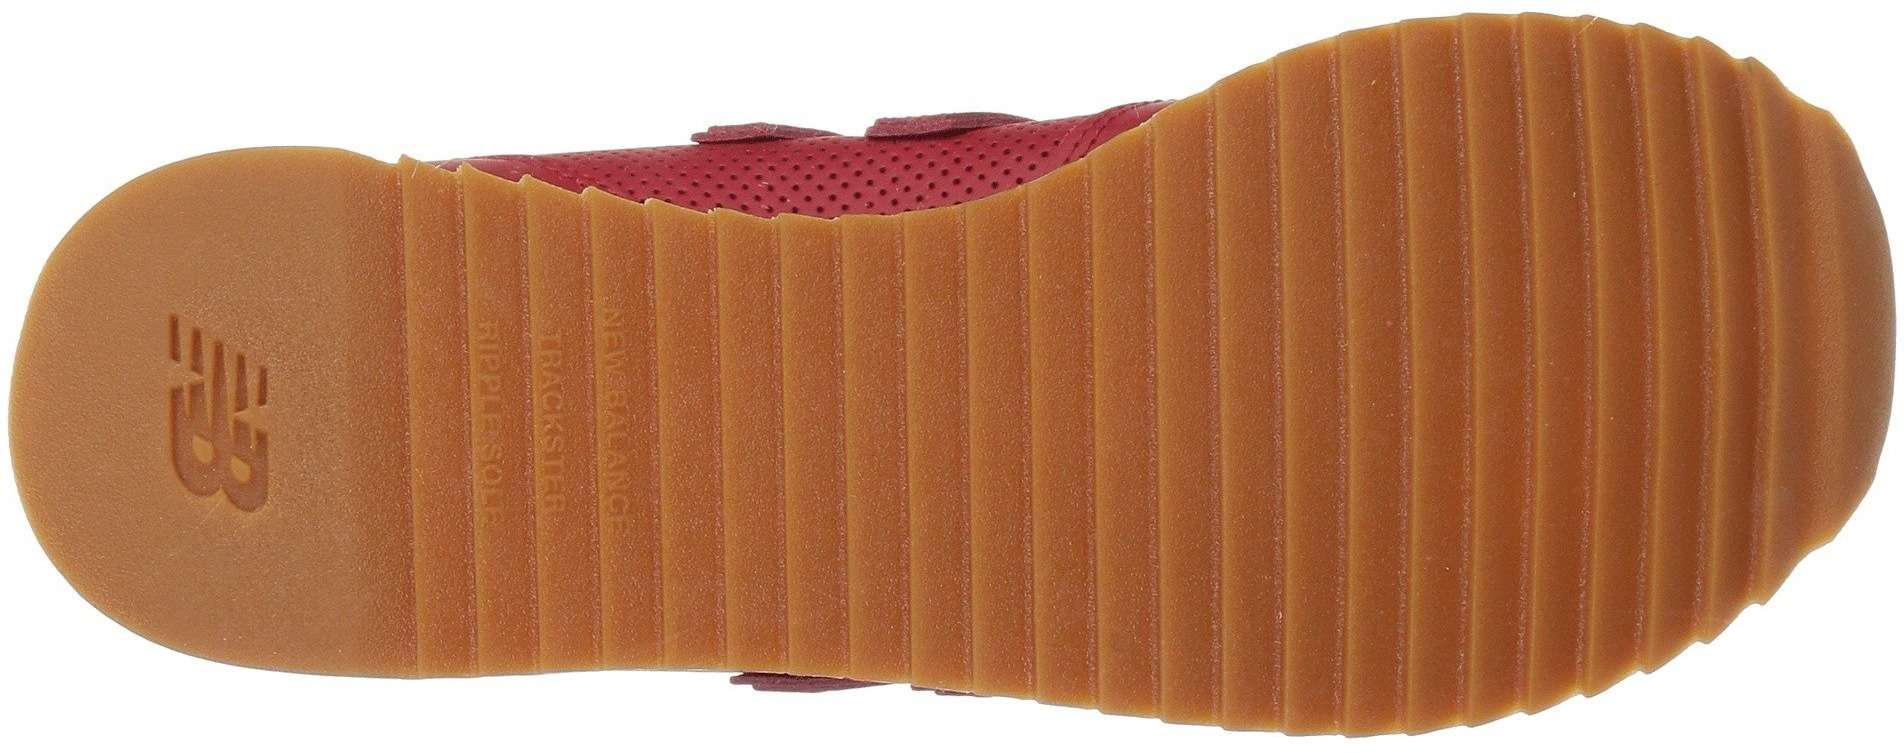line: (389, 9, 1885, 727)
other: (161, 302, 280, 532)
